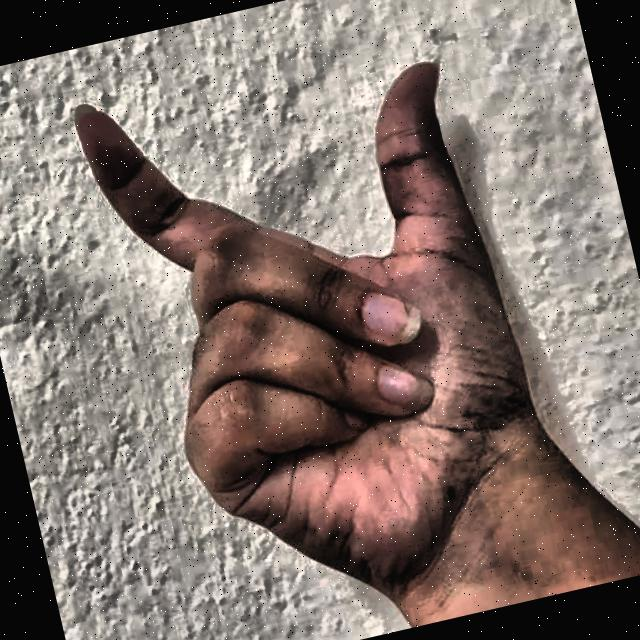ChandraBindu: (47, 0, 610, 640)
